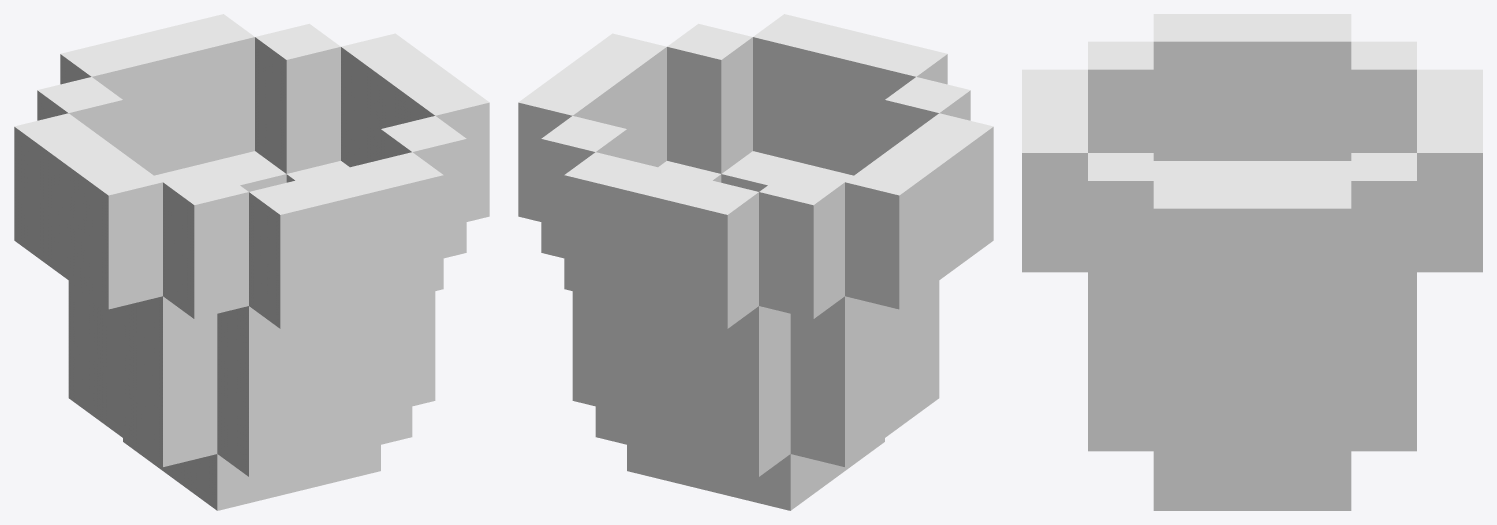
File: bin.gltf
3 renders of one model, left to right at view 1: azimuth 30°, elevation 25°; view 2: azimuth 150°, elevation 25°; view 3: azimuth 270°, elevation 25°, orthographic. The views are drawn at different scales.
Bounding box in the file's own units: 7 × 6 × 7.
Materials: 1 (1 with a texture image).
